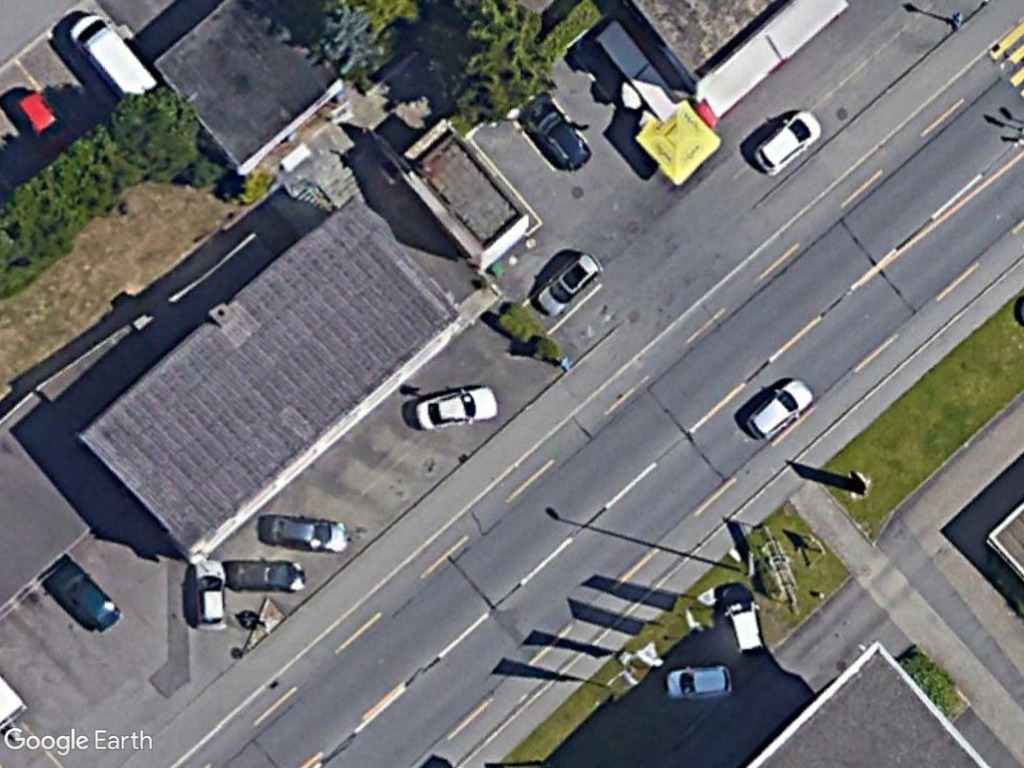car: (749, 105, 823, 178), (54, 565, 124, 634), (534, 250, 605, 318), (745, 376, 816, 442), (413, 383, 501, 432), (267, 514, 351, 554), (189, 555, 228, 633), (662, 664, 732, 702)
van: (65, 15, 158, 105)
